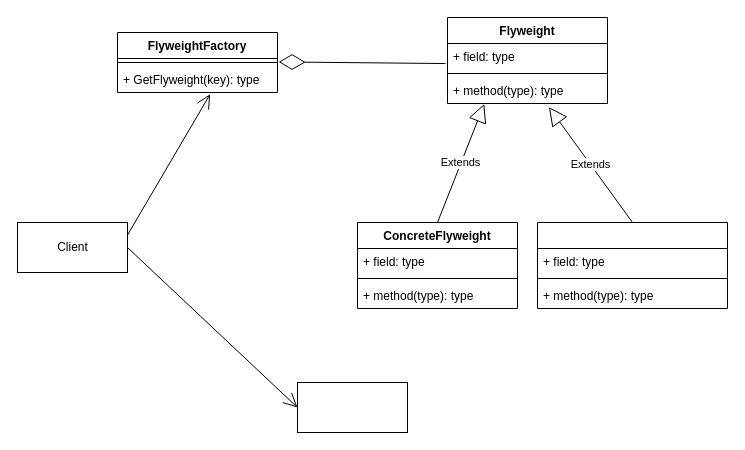
The diagram is 745 pixels wide and 450 high, and some of its shapes have lost their labels. The shapes that lost their labels are listed below. From the top down, each one's box as (x1, y1, x2, y2) in pixels, then its label:
(536, 222, 728, 308): UnsharedConcreteFlyweight
(296, 382, 408, 432): User
